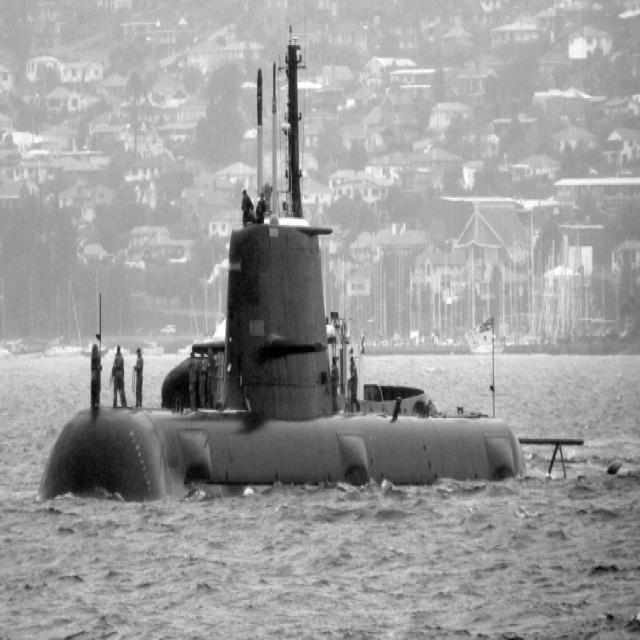submarine: (36, 44, 585, 511)
